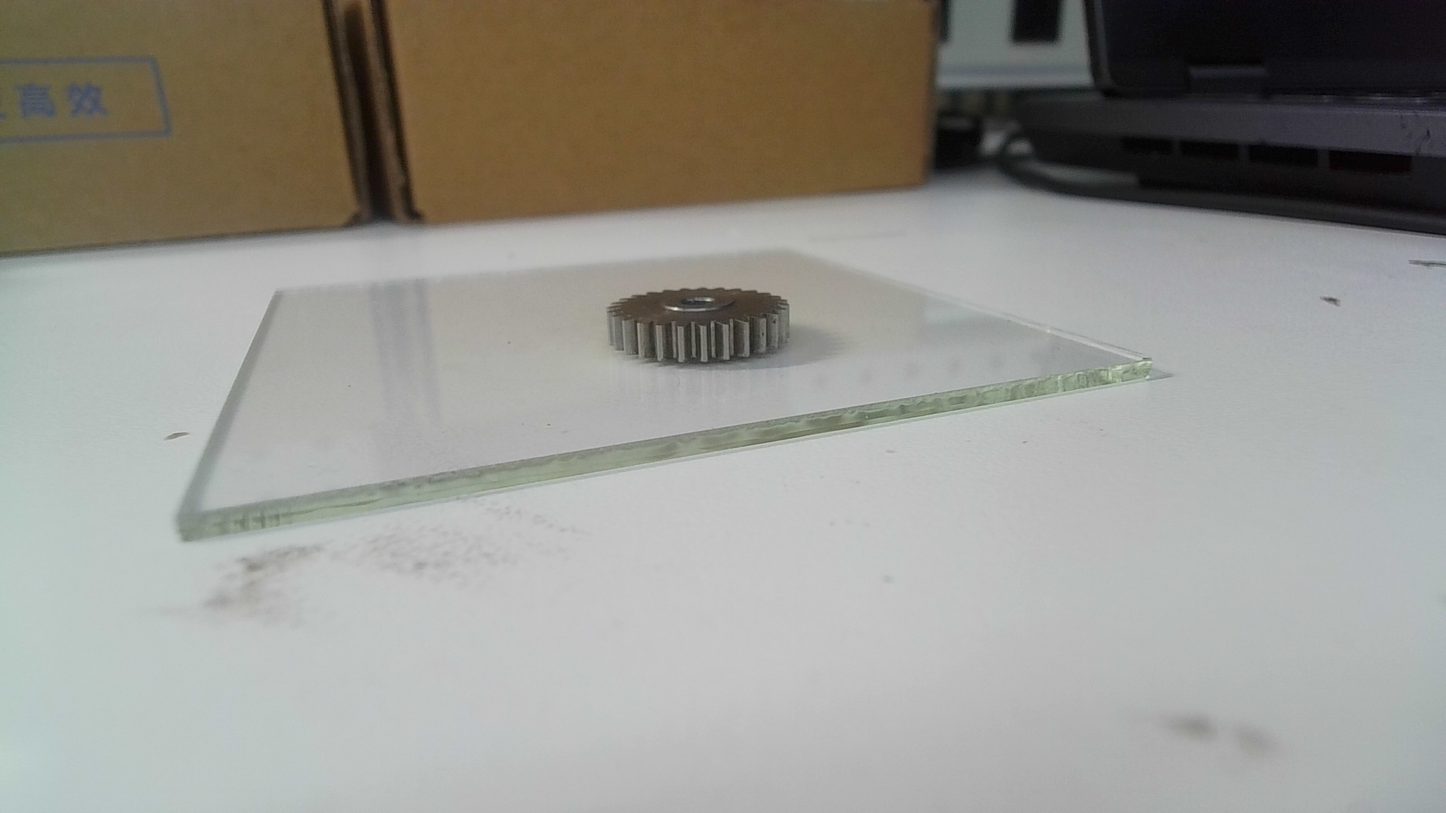gear: (604, 286, 794, 368)
